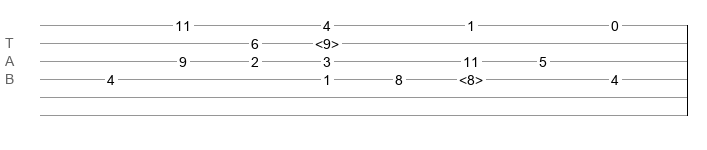0: (611, 18, 619, 28)
1: (323, 72, 331, 82), (467, 18, 475, 28)
11: (175, 18, 191, 28), (463, 54, 479, 64)
2: (251, 54, 259, 64)
3: (323, 54, 331, 64)
4: (107, 72, 115, 82), (323, 18, 331, 28), (611, 72, 619, 82)
5: (539, 54, 547, 64)
6: (251, 36, 259, 46)
8: (395, 72, 403, 82)
9: (179, 54, 187, 64)
harmonic: (315, 36, 339, 46), (459, 72, 483, 82)
